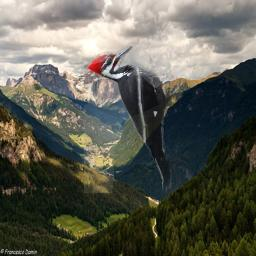Woodpecker: (84, 46, 184, 193)
